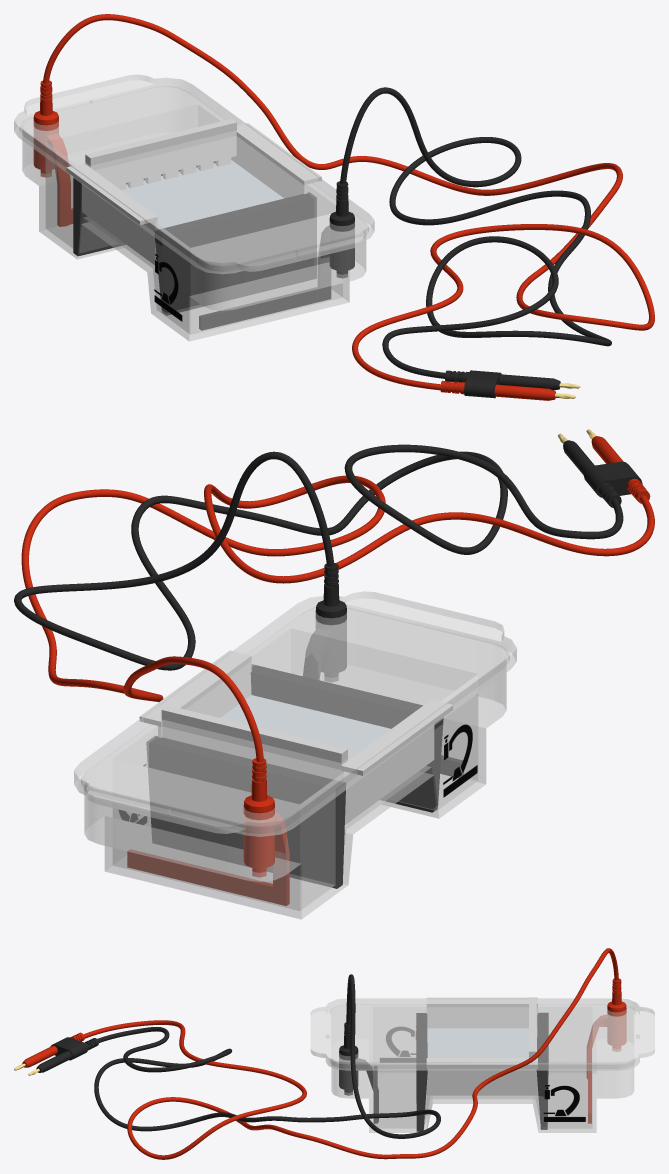
File: HorizontalGelTank.glb
3 views of the same model, one above another, from view 1: azimuth 30°, elevation 25°; view 2: azimuth 150°, elevation 25°; view 3: azimuth 270°, elevation 25° (orthographic). The views are drawn at different scales.
Parts seen in each view (by area): view 1: Lid, Electrophoresis Container, Blockers, Red Cord, Black Cord, Electrode Wires, Gel Holder, Gel Comb, Gel, Prongs; view 2: Lid, Electrophoresis Container, Blockers, Black Cord, Red Cord, Electrode Wires, Gel Holder, Gel Comb, Gel, Prongs; view 3: Lid, Electrophoresis Container, Gel Holder, Red Cord, Black Cord, Electrode Wires, Gel, Blockers, Prongs, Gel Comb.
Boxes of the visible parts, <box> form: Lid: <box>14,74,374,274</box>; Electrophoresis Container: <box>22,87,366,341</box>; Blockers: <box>73,161,316,315</box>; Red Cord: <box>43,14,654,390</box>; Black Cord: <box>340,87,611,378</box>; Electrode Wires: <box>33,80,354,330</box>; Gel Holder: <box>66,123,321,264</box>; Gel Comb: <box>85,119,236,189</box>; Gel: <box>122,160,283,228</box>; Prongs: <box>440,370,580,400</box>; Lid: <box>74,591,516,836</box>; Electrophoresis Container: <box>84,609,506,919</box>; Blockers: <box>146,664,443,888</box>; Black Cord: <box>14,444,623,670</box>; Red Cord: <box>21,475,654,762</box>; Electrode Wires: <box>127,563,463,905</box>; Gel Holder: <box>139,650,453,824</box>; Gel Comb: <box>161,705,347,780</box>; Gel: <box>221,695,390,760</box>; Prongs: <box>557,429,650,507</box>; Lid: <box>310,998,654,1070</box>; Electrophoresis Container: <box>331,1005,634,1132</box>; Gel Holder: <box>426,997,537,1095</box>; Red Cord: <box>83,948,618,1159</box>; Black Cord: <box>94,974,440,1138</box>; Electrode Wires: <box>339,978,626,1123</box>; Gel: <box>427,1028,528,1057</box>; Blockers: <box>416,1013,548,1131</box>; Prongs: <box>14,1032,98,1075</box>; Gel Comb: <box>529,997,536,1057</box>.
Size of the model in its own units: 4.15 by 2.12 by 7.48.
Materials: 9 (1 with a texture image).
